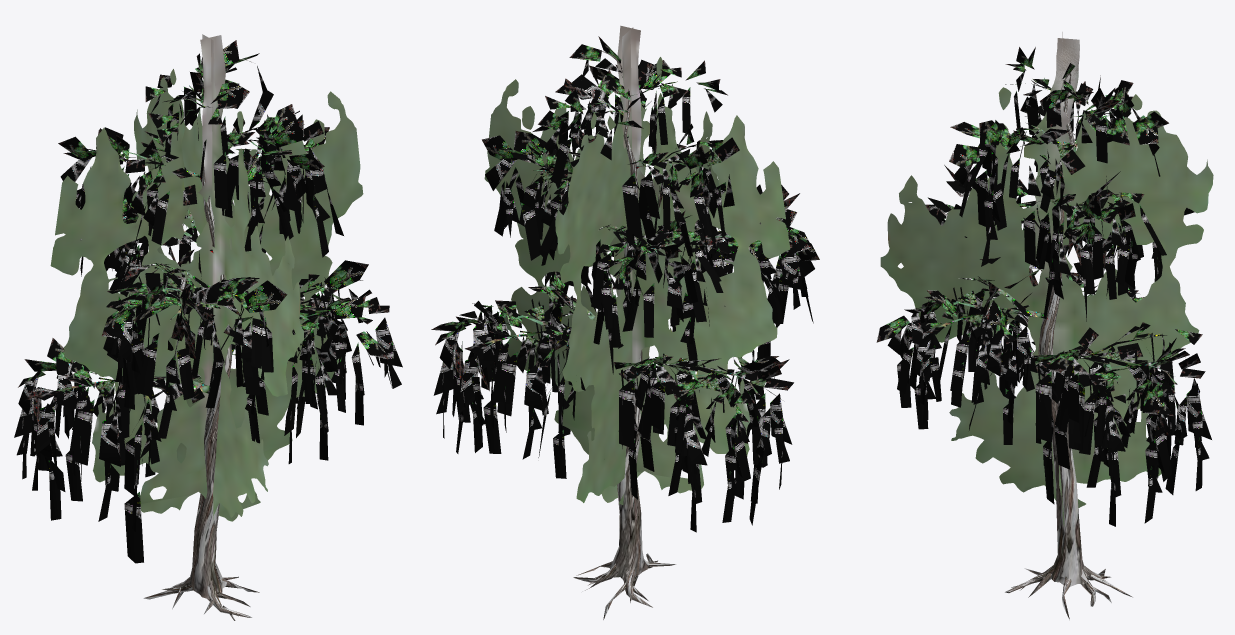
The model's file is birchtree1.glb.
3 views of the same model, side by side, from view 1: azimuth 30°, elevation 25°; view 2: azimuth 150°, elevation 25°; view 3: azimuth 270°, elevation 25° (orthographic). The views are drawn at different scales.
Visible parts, largest first — view 1: BirchTree1; view 2: BirchTree1; view 3: BirchTree1.
Part boxes in pixels (x1,y1,x2,y2): BirchTree1: [14, 34, 402, 620]; BirchTree1: [431, 25, 819, 619]; BirchTree1: [876, 32, 1213, 619].
Size of the model in its own units: 11.49 by 17.11 by 10.03.
Materials: 3 (3 with a texture image).
